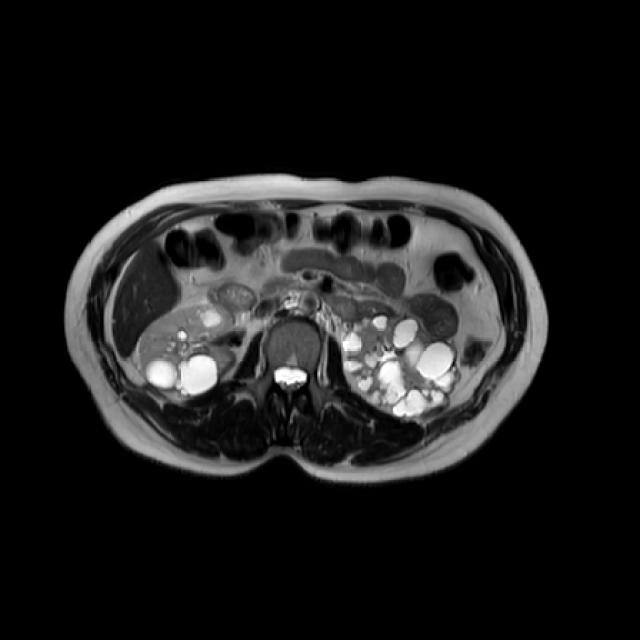sag: (130, 300, 237, 402)
sol: (340, 299, 465, 422)
